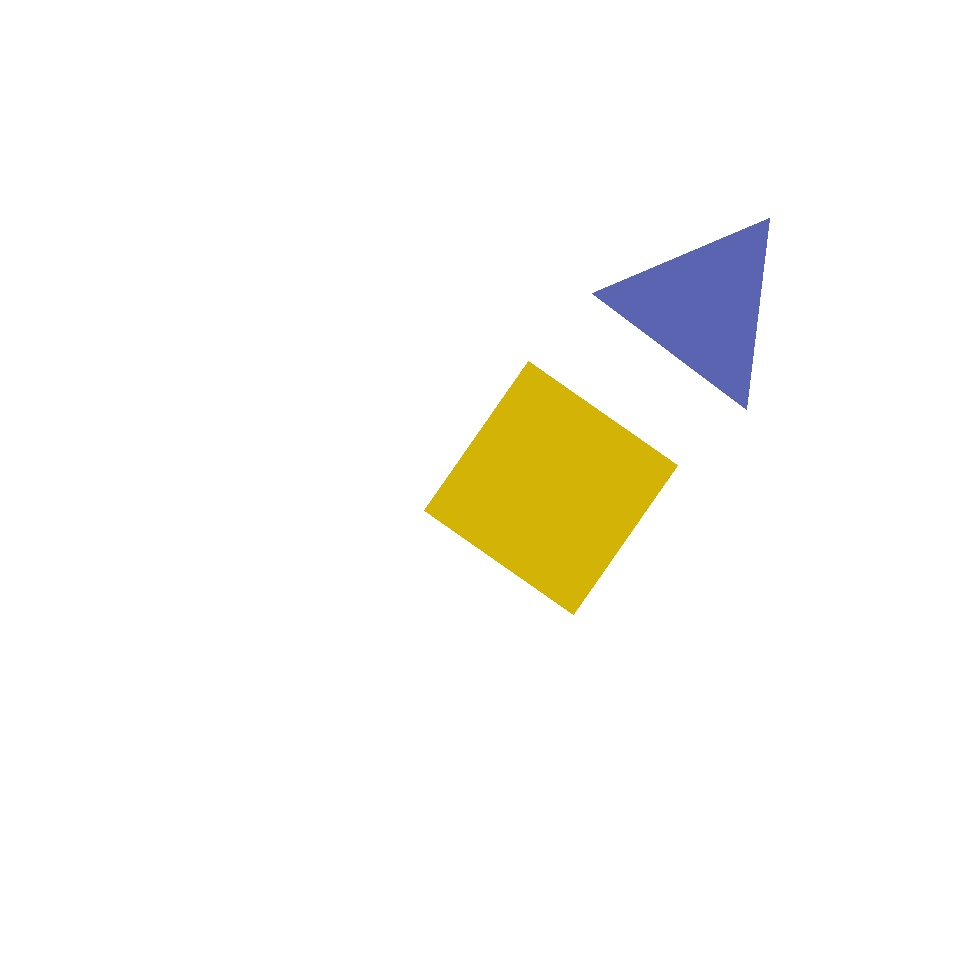circle: (614, 211, 792, 402), (234, 540, 378, 702), (113, 166, 209, 250)
square: (424, 361, 678, 614), (604, 183, 806, 386)
triangle: (480, 36, 830, 388)
